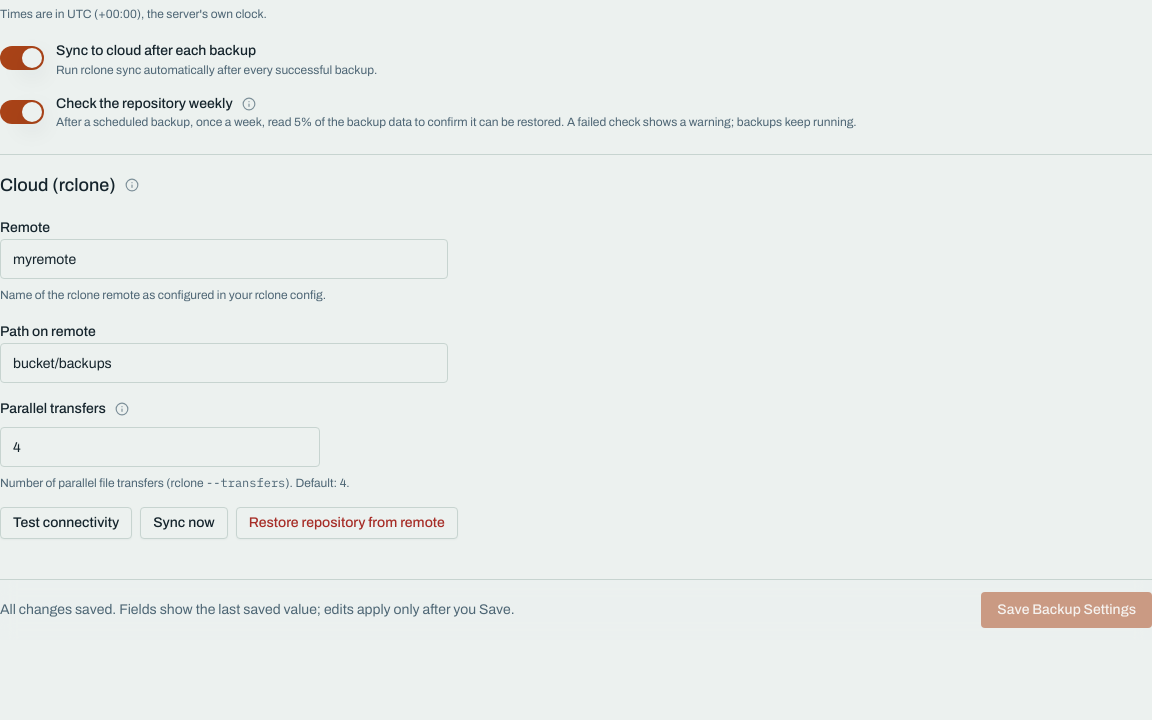
Scenario: BackupSettingsContent — Sync now › over the cap: shows the count, and confirming sends exactly that count
(page scrolled)
Click the button "Sync now": (184, 523) [140, 507, 228, 539]
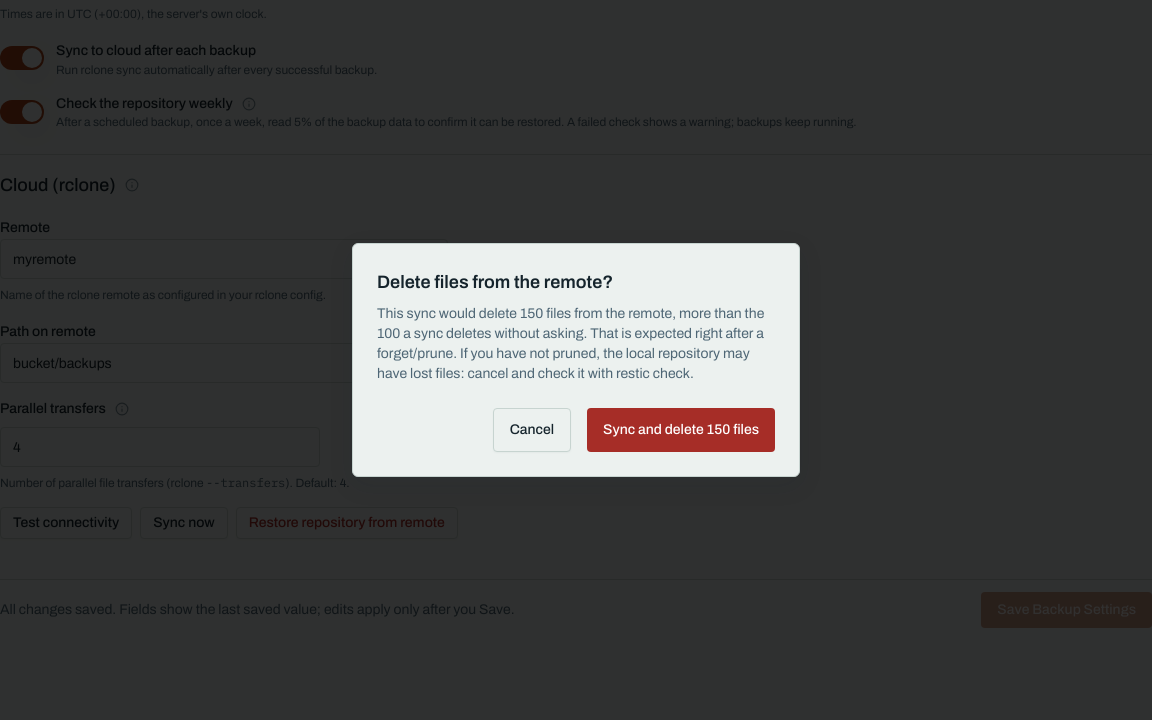
expect the heading "Delete files from the remote?" is shown: met, box [377, 272, 613, 292]
expect the text "would delete 150 files from the remote, more than the 100" is shown: met, box [377, 306, 764, 381]
Click the button "Sync and delete 150 files": (681, 430) [587, 408, 775, 452]
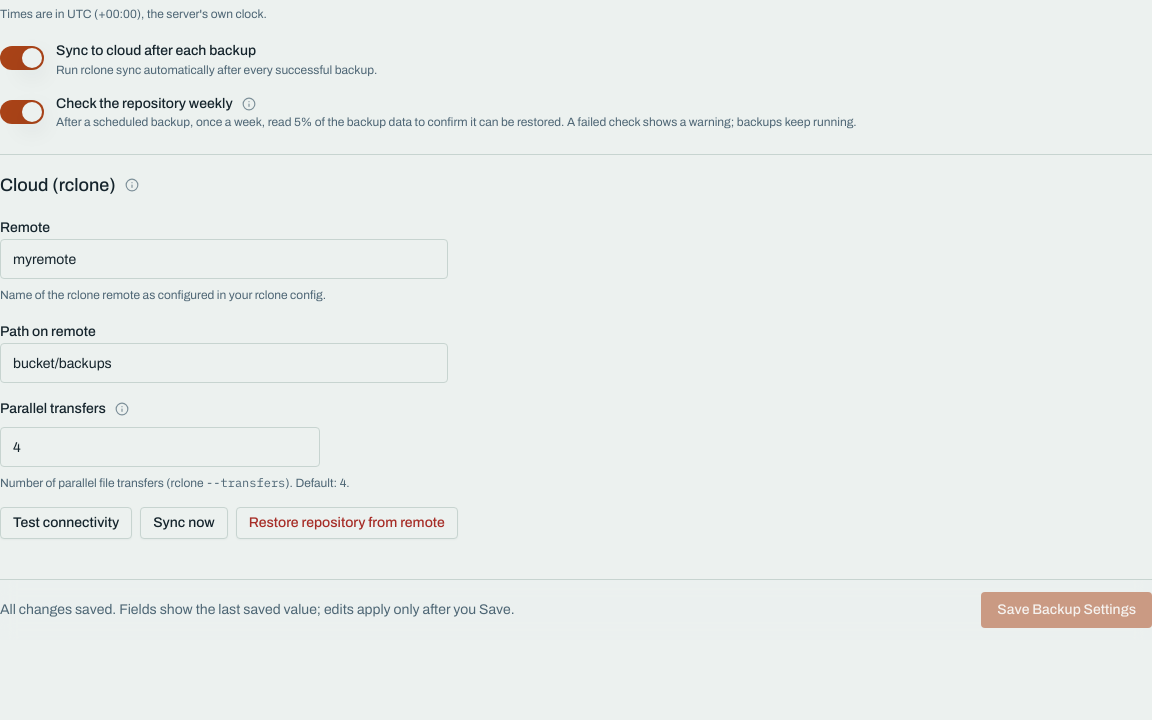
expect the heading "Delete files from the remote?" is gone: met
